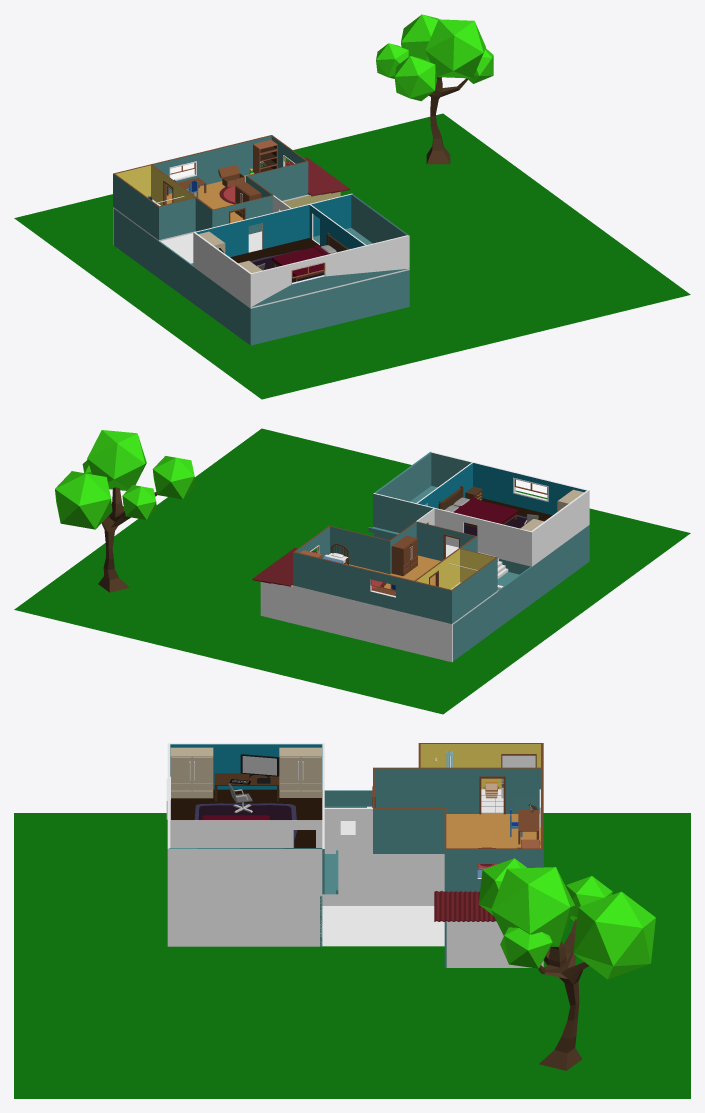
Rendered from projeto quarto Inter 4.0.fbx.
3 renders of one model, top to bottom at view 1: azimuth 30°, elevation 25°; view 2: azimuth 150°, elevation 25°; view 3: azimuth 270°, elevation 25°, orthographic. The views are drawn at different scales.
Visible parts, largest first — view 1: GramaExterna, Quarto dos pais, Quarto, Garagem, Arvore2, Sala, Hall, Cama pais, Telhadu.001, Estante Livros; view 2: GramaExterna, Quarto, Quarto dos pais, Arvore2, Sala, Cozinha, Hall, Garagem, Cama pais, Armario, Telhadu.001; view 3: GramaExterna, Quarto, Quarto dos pais, Arvore2, Cozinha, Garagem, Hall, Armario.002, Armario.001, Telhadu.001, Sala, TV (+1 smaller).
Boxes of the visible parts, <box> form: GramaExterna: <box>14,113,690,399</box>; Quarto dos pais: <box>194,193,409,308</box>; Quarto: <box>113,135,308,241</box>; Garagem: <box>194,267,409,345</box>; Arvore2: <box>376,14,493,164</box>; Sala: <box>113,208,193,303</box>; Hall: <box>189,195,291,266</box>; Cama pais: <box>272,233,350,281</box>; Telhadu.001: <box>285,157,349,196</box>; Estante Livros: <box>253,139,277,173</box>; GramaExterna: <box>14,428,690,714</box>; Quarto: <box>293,521,497,625</box>; Quarto dos pais: <box>368,451,589,565</box>; Arvore2: <box>55,430,195,592</box>; Sala: <box>353,559,532,662</box>; Cozinha: <box>260,582,353,637</box>; Hall: <box>416,507,532,590</box>; Garagem: <box>374,525,589,602</box>; Cama pais: <box>438,485,518,527</box>; Armario: <box>391,535,417,576</box>; Telhadu.001: <box>252,548,317,586</box>; GramaExterna: <box>14,813,690,1098</box>; Quarto: <box>372,743,543,892</box>; Quarto dos pais: <box>167,743,338,896</box>; Arvore2: <box>478,858,655,1070</box>; Cozinha: <box>322,856,543,967</box>; Garagem: <box>167,896,322,946</box>; Hall: <box>322,743,372,855</box>; Armario.002: <box>170,747,213,798</box>; Armario.001: <box>279,747,321,797</box>; Telhadu.001: <box>434,891,496,921</box>; Sala: <box>324,790,417,906</box>; TV: <box>240,754,279,778</box>.
Bounding box in the file's own units: 7493 × 2392 × 7493.
